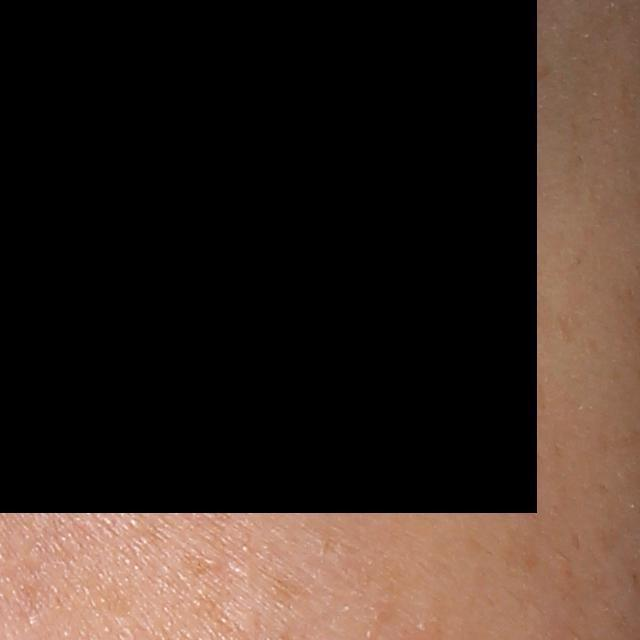melasma: (269, 572, 311, 603)
